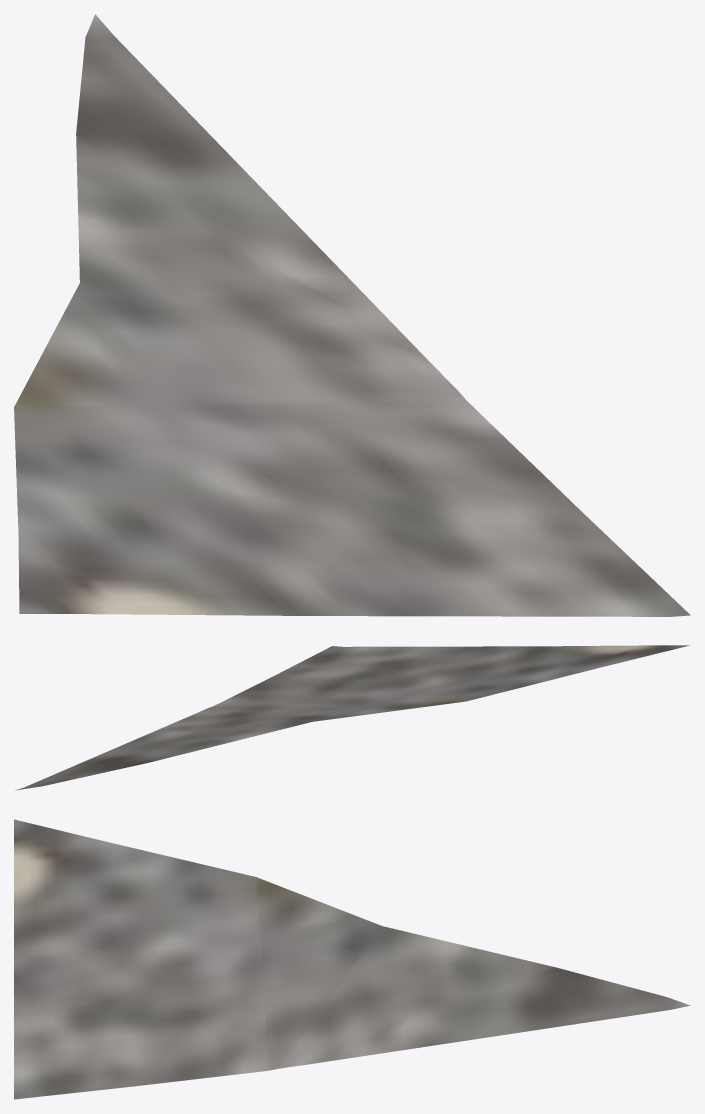
The picture shows the model from 3 angles, top to bottom: view 1: azimuth 30°, elevation 25°; view 2: azimuth 150°, elevation 25°; view 3: azimuth 270°, elevation 25°; orthographic projection. The views are drawn at different scales.
Size of the model in its own units: 0.146 by 0.0343 by 0.2243.
1 material, 1 textured.
